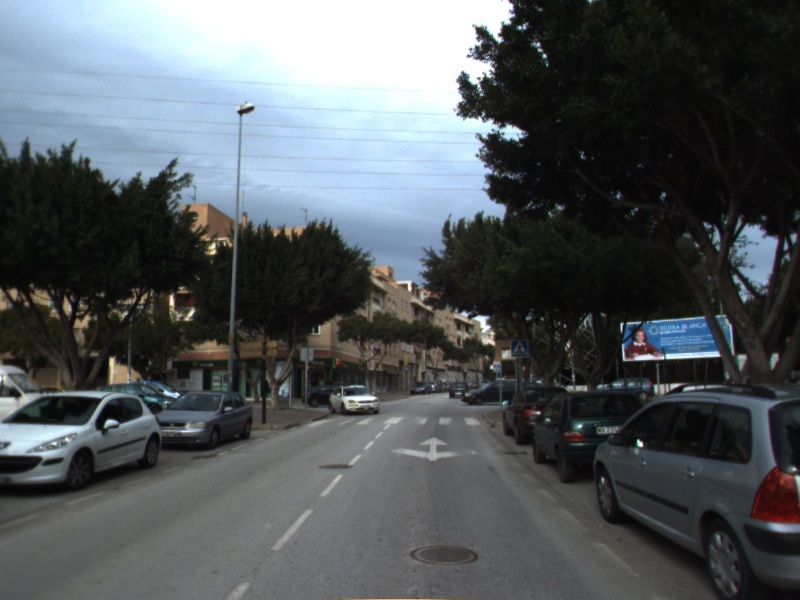STRAIGHT_LEFT_RIGHT: (388, 434, 481, 464)
